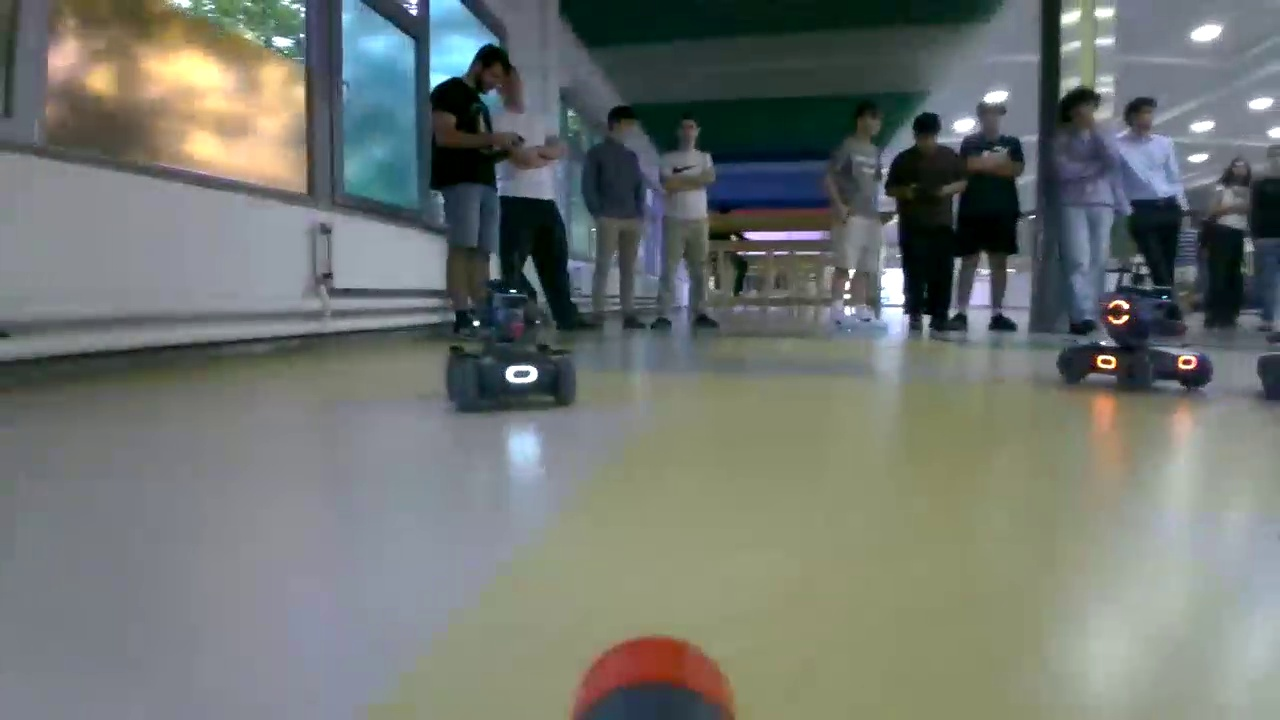robot: (440, 280, 580, 409), (1057, 288, 1212, 386)
